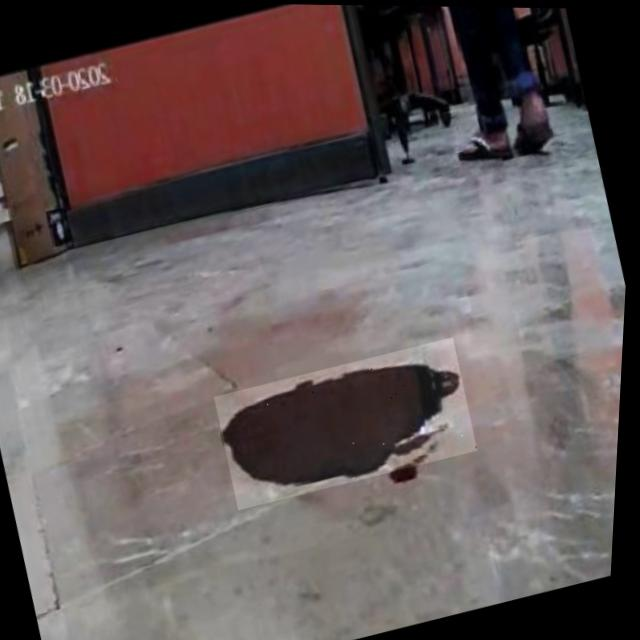spillage: (220, 356, 466, 487)
